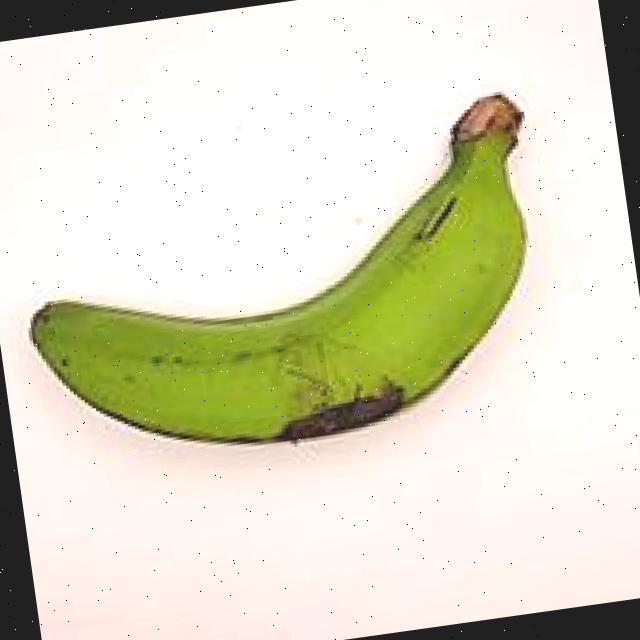Raw: (0, 60, 597, 527)
